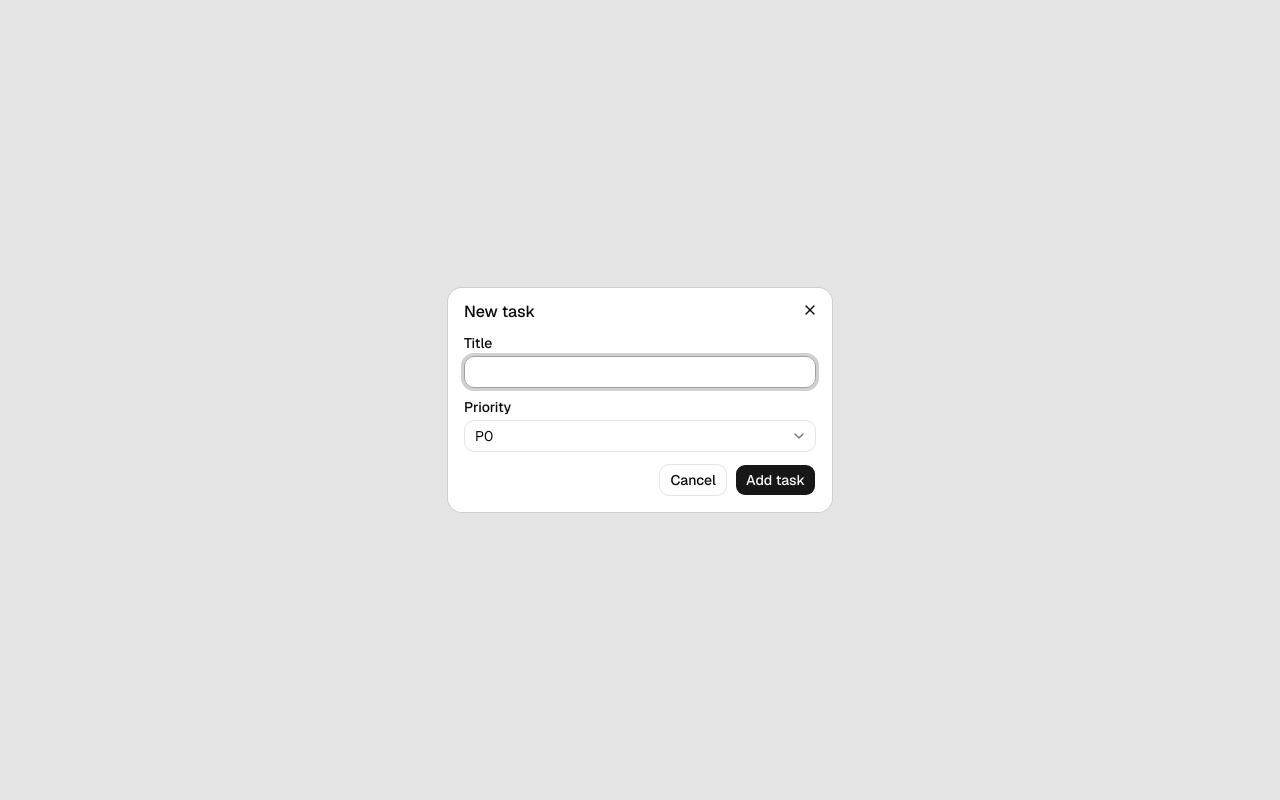
Scenario: AddTaskDialog › offers a P0–P3 priority selector defaulting to P0
// And opening it reveals the full P0–P3 range
What coordinates should you click on to do the following:
click the dropdown named "priority"
I would click on:
 (484, 436)
Its box is [464,420,816,452].
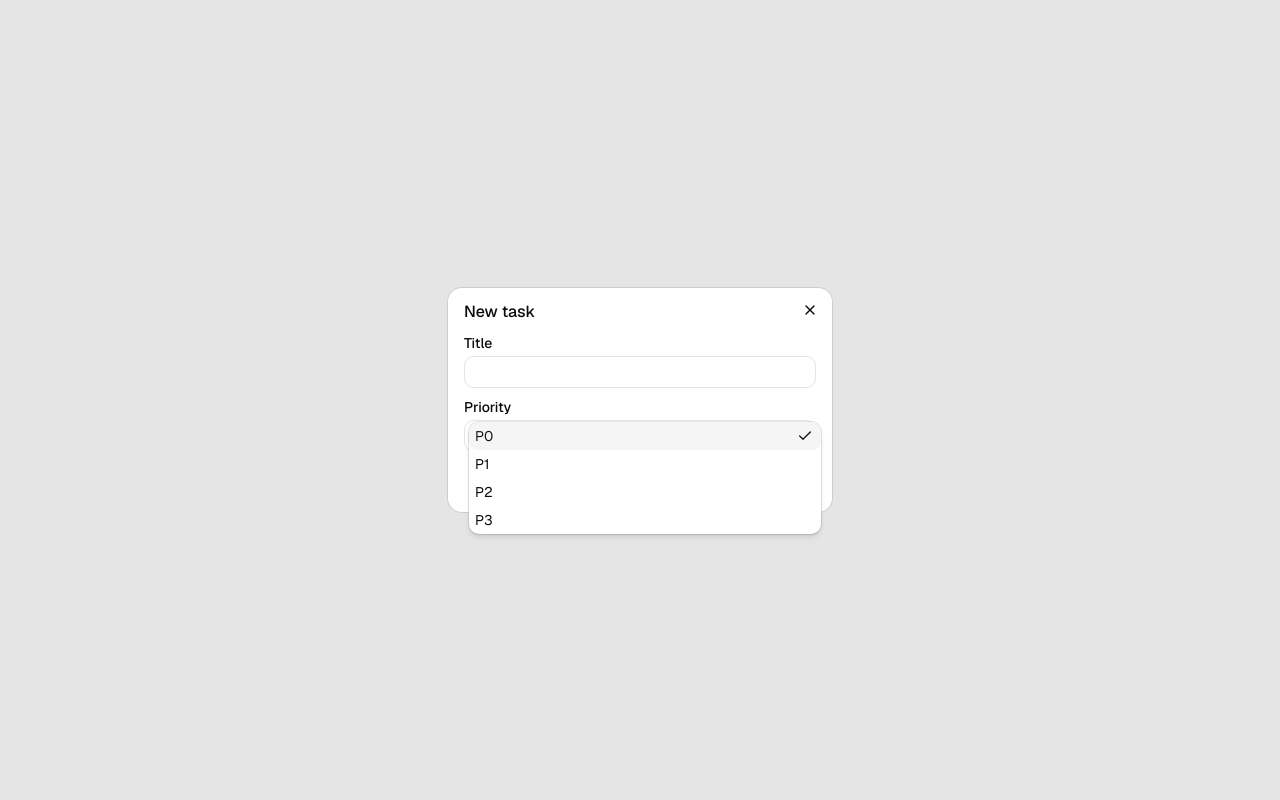
Result: the option "P3" is shown at [475,511,493,529]
